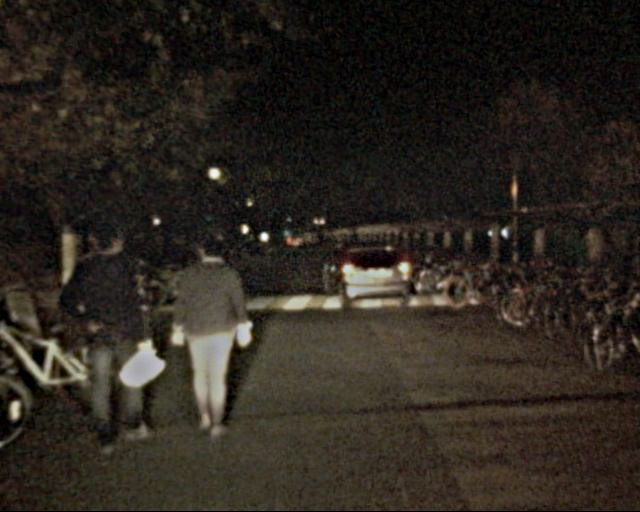person: (68, 216, 159, 449), (172, 232, 254, 438)
